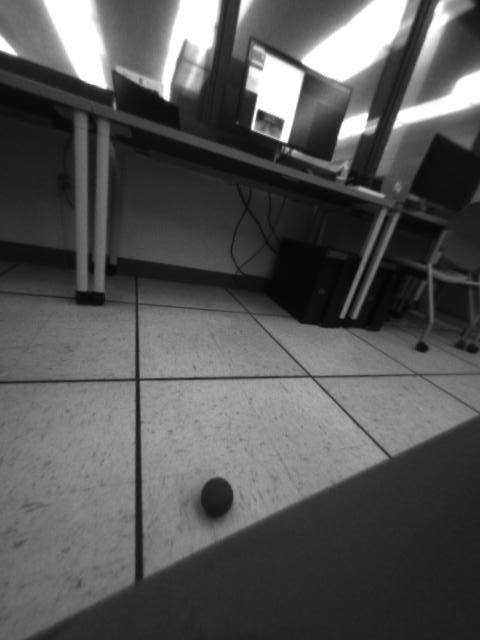dogtoy: (192, 469, 243, 524)
